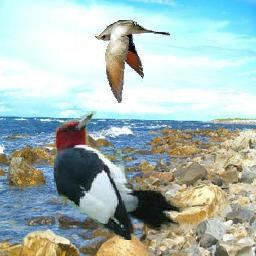Cuckoo: (96, 21, 171, 104)
Woodpecker: (55, 112, 184, 241)
